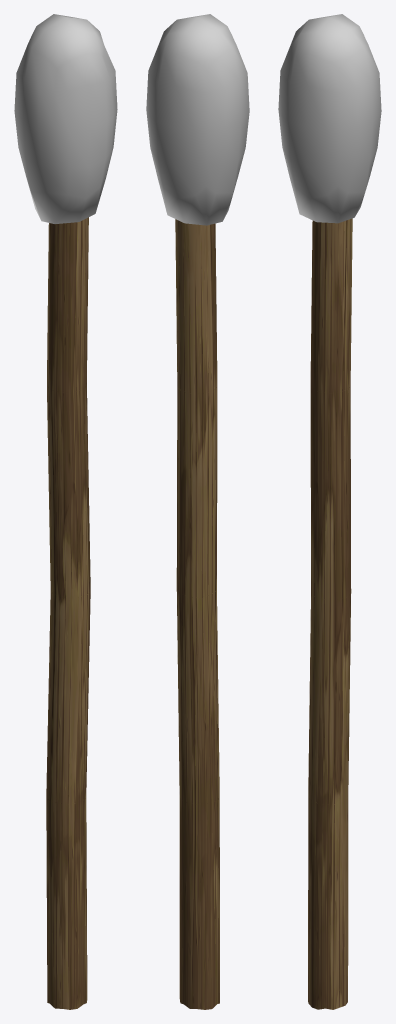
The model's file is StandingTorch.fbx.
3 renders of one model, left to right at view 1: azimuth 30°, elevation 25°; view 2: azimuth 150°, elevation 25°; view 3: azimuth 330°, elevation 25°, orthographic.
Parts seen in each view (by area): view 1: Cube; view 2: Cube; view 3: Cube.
Boxes of the visible parts, bbox=[...] form: Cube: bbox=[14, 14, 117, 1009]; Cube: bbox=[146, 14, 249, 1009]; Cube: bbox=[278, 14, 381, 1009].
Size of the model in its own units: 58 by 637 by 55.52.
